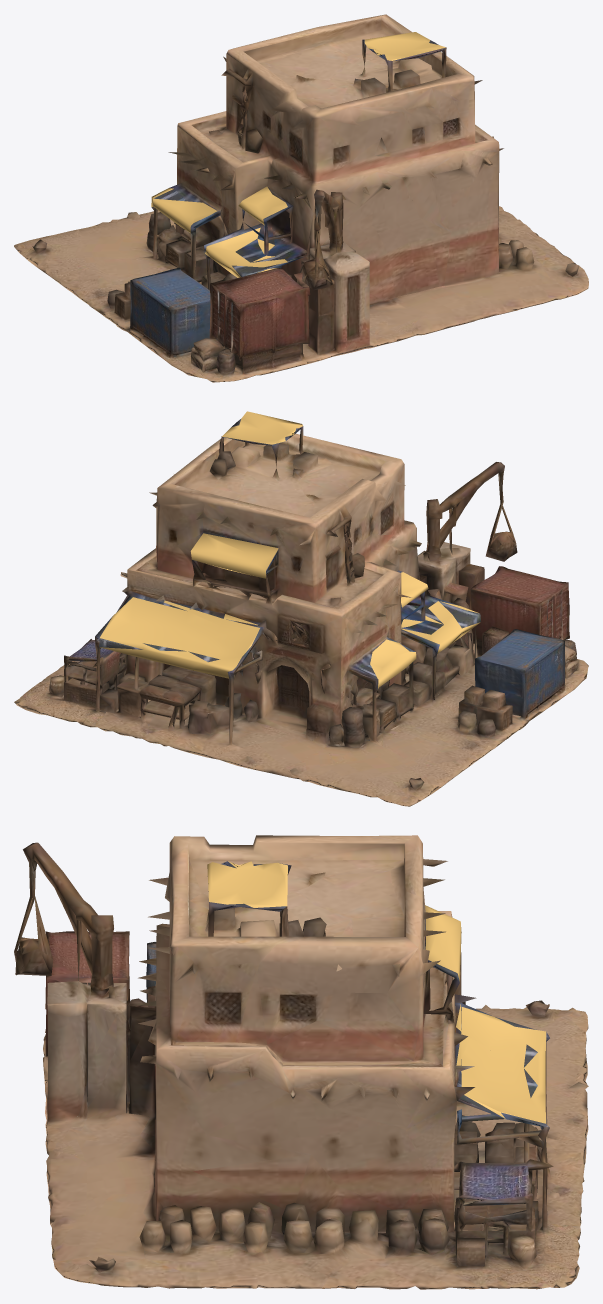
The model's file is trading_post.glb.
3 views of the same model, one above another, from view 1: azimuth 30°, elevation 25°; view 2: azimuth 150°, elevation 25°; view 3: azimuth 270°, elevation 25° (orthographic). The views are drawn at different scales.
Parts seen in each view (by area): view 1: Model; view 2: Model; view 3: Model.
Part boxes in pixels (x1,y1,x2,y2): Model: [14, 14, 588, 382]; Model: [14, 411, 588, 806]; Model: [14, 835, 588, 1289].
Size of the model in its own units: 2 by 1.06 by 1.74.
2 materials, 1 textured.
